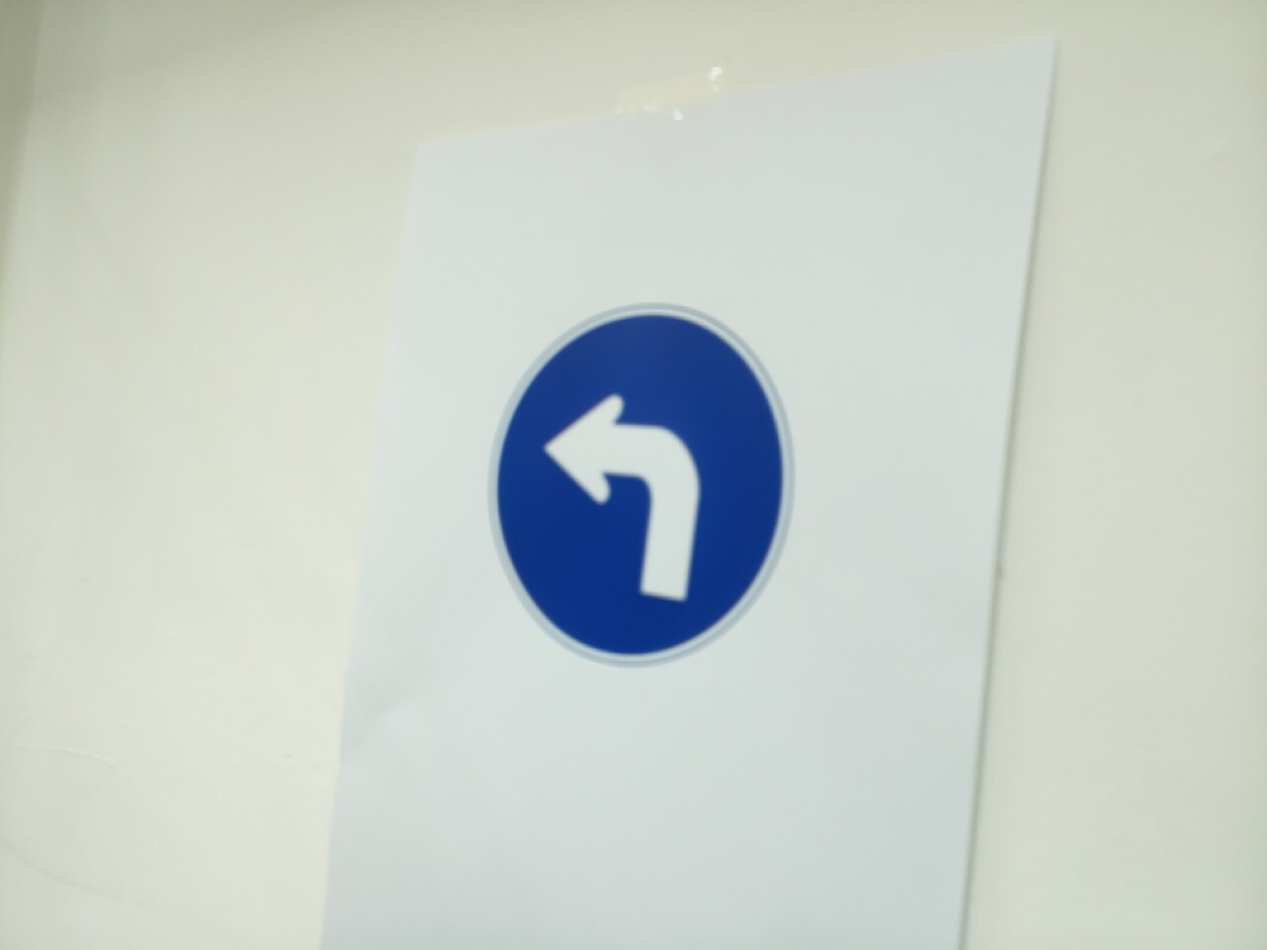left_turn: (488, 304, 792, 666)
